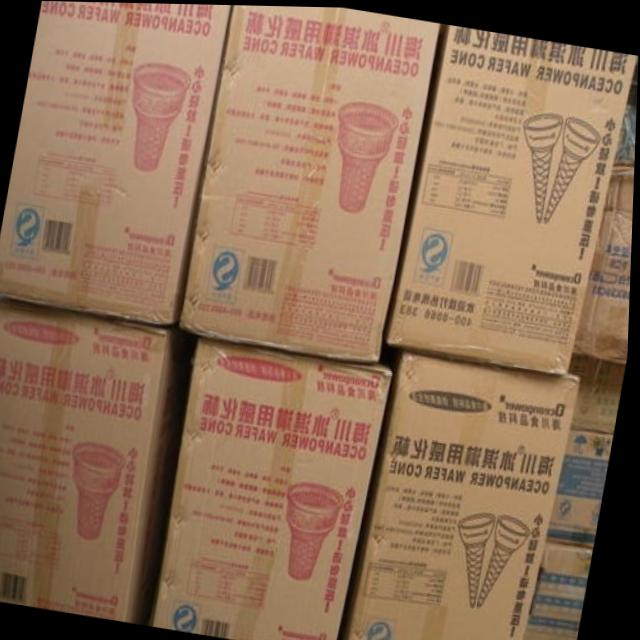box: (183, 4, 441, 361), (384, 22, 638, 373), (0, 1, 232, 326), (155, 333, 393, 640), (345, 342, 583, 640), (0, 297, 202, 624), (573, 160, 636, 360), (549, 425, 616, 543), (528, 537, 597, 640), (570, 350, 629, 432)
